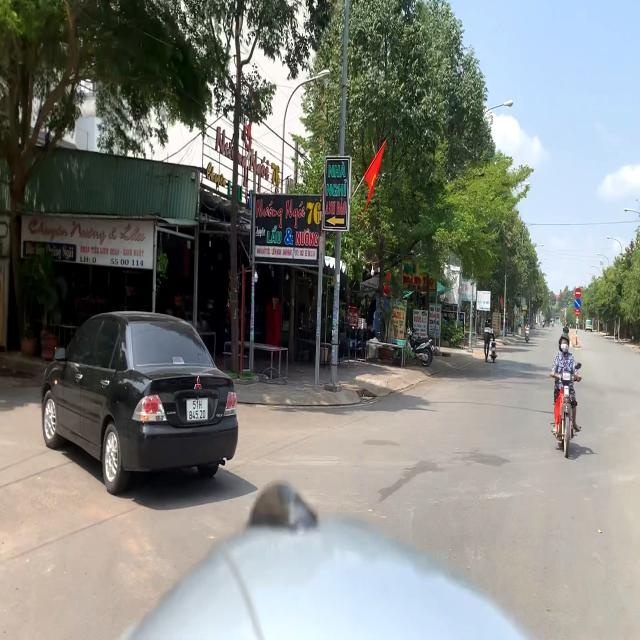bien_hieu_lenh: (575, 288, 582, 298), (575, 299, 581, 308)
